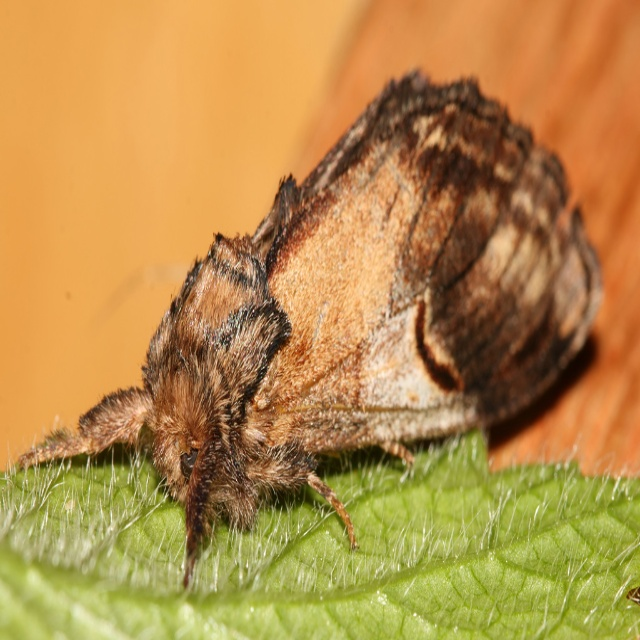Moths and butterflies: (16, 63, 614, 583)
